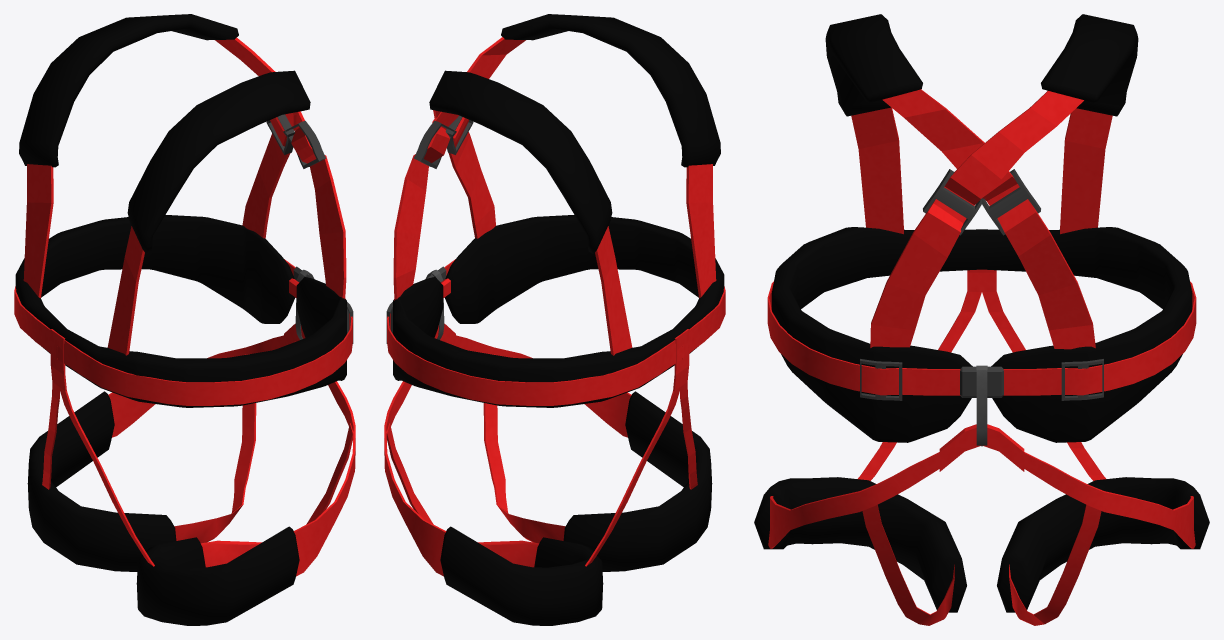
The model's file is Harness.fbx.
The picture shows the model from 3 angles, left to right: view 1: azimuth 30°, elevation 25°; view 2: azimuth 150°, elevation 25°; view 3: azimuth 270°, elevation 25°; orthographic projection. The views are drawn at different scales.
Visible parts, largest first — view 1: Cube, Torus.001, Plane.003, Cube.002, Plane.002, Plane.001, Cube.008, Cube.007, Plane, Cube.009; view 2: Cube, Torus.001, Plane.003, Cube.002, Plane.001, Plane.002, Cube.008, Cube.007, Plane, Cube.009; view 3: Cube, Torus.001, Plane.002, Plane.001, Plane.003, Cube.002, Cube.007, Cube.008, Plane, Cube.009, Cube.005, Cube.003 (+2 smaller).
Boxes of the visible parts, <box> form: Cube: <box>15,215,346,407</box>; Torus.001: <box>27,391,299,625</box>; Plane.003: <box>19,14,310,254</box>; Cube.002: <box>14,259,352,405</box>; Plane.002: <box>23,37,346,299</box>; Plane.001: <box>107,112,297,355</box>; Cube.008: <box>174,354,353,567</box>; Cube.007: <box>108,335,355,576</box>; Plane: <box>42,329,154,566</box>; Cube.009: <box>266,114,325,168</box>; Cube: <box>393,215,724,407</box>; Torus.001: <box>440,391,712,625</box>; Plane.003: <box>429,14,720,254</box>; Cube.002: <box>387,259,725,405</box>; Plane.001: <box>393,37,716,300</box>; Plane.002: <box>433,110,632,355</box>; Cube.008: <box>386,354,565,567</box>; Cube.007: <box>384,335,631,576</box>; Plane: <box>585,329,697,566</box>; Cube.009: <box>414,115,473,168</box>; Cube: <box>771,227,1192,442</box>; Torus.001: <box>754,477,1209,612</box>; Plane.002: <box>870,91,1112,347</box>; Plane.001: <box>851,89,1095,349</box>; Plane.003: <box>825,14,1138,116</box>; Cube.002: <box>767,281,1196,395</box>; Cube.007: <box>768,452,1195,548</box>; Cube.008: <box>862,505,1101,625</box>; Plane: <box>858,269,1105,480</box>; Cube.009: <box>923,169,1040,235</box>; Cube.005: <box>939,424,1024,471</box>; Cube.003: <box>860,359,1103,400</box>.
Size of the model in its own units: 29.63 by 57.91 by 40.26.
1 material, 1 textured.
